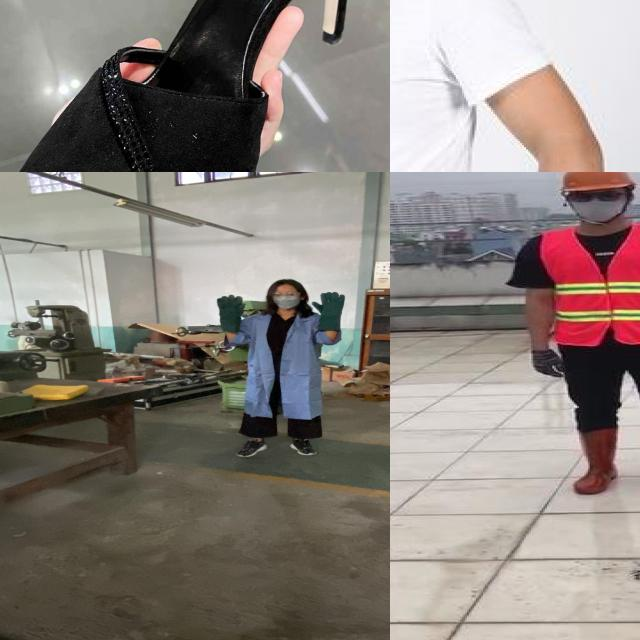Harness: (390, 0, 497, 172)
Sandals: (0, 0, 390, 172)
boots: (570, 427, 620, 494)
face_mask: (566, 188, 624, 222), (270, 289, 302, 308)
glasses: (565, 189, 627, 205), (270, 290, 302, 298)
hand_glove: (529, 351, 570, 378), (307, 291, 349, 317), (214, 293, 250, 321)
head_helmet: (556, 172, 633, 192)
head_nohelmet: (266, 278, 306, 291)
person: (508, 172, 640, 507), (211, 277, 350, 463)
shoes: (234, 438, 269, 461), (284, 436, 317, 456)
vest: (539, 227, 640, 346)
